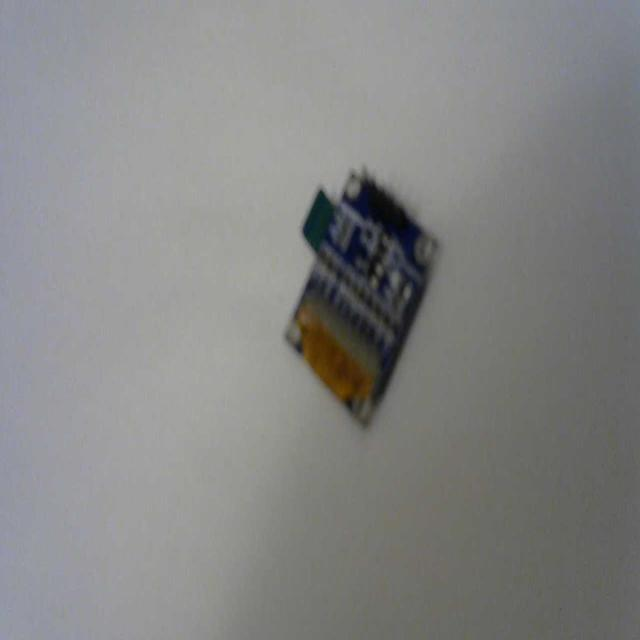oled: (280, 156, 445, 439)
